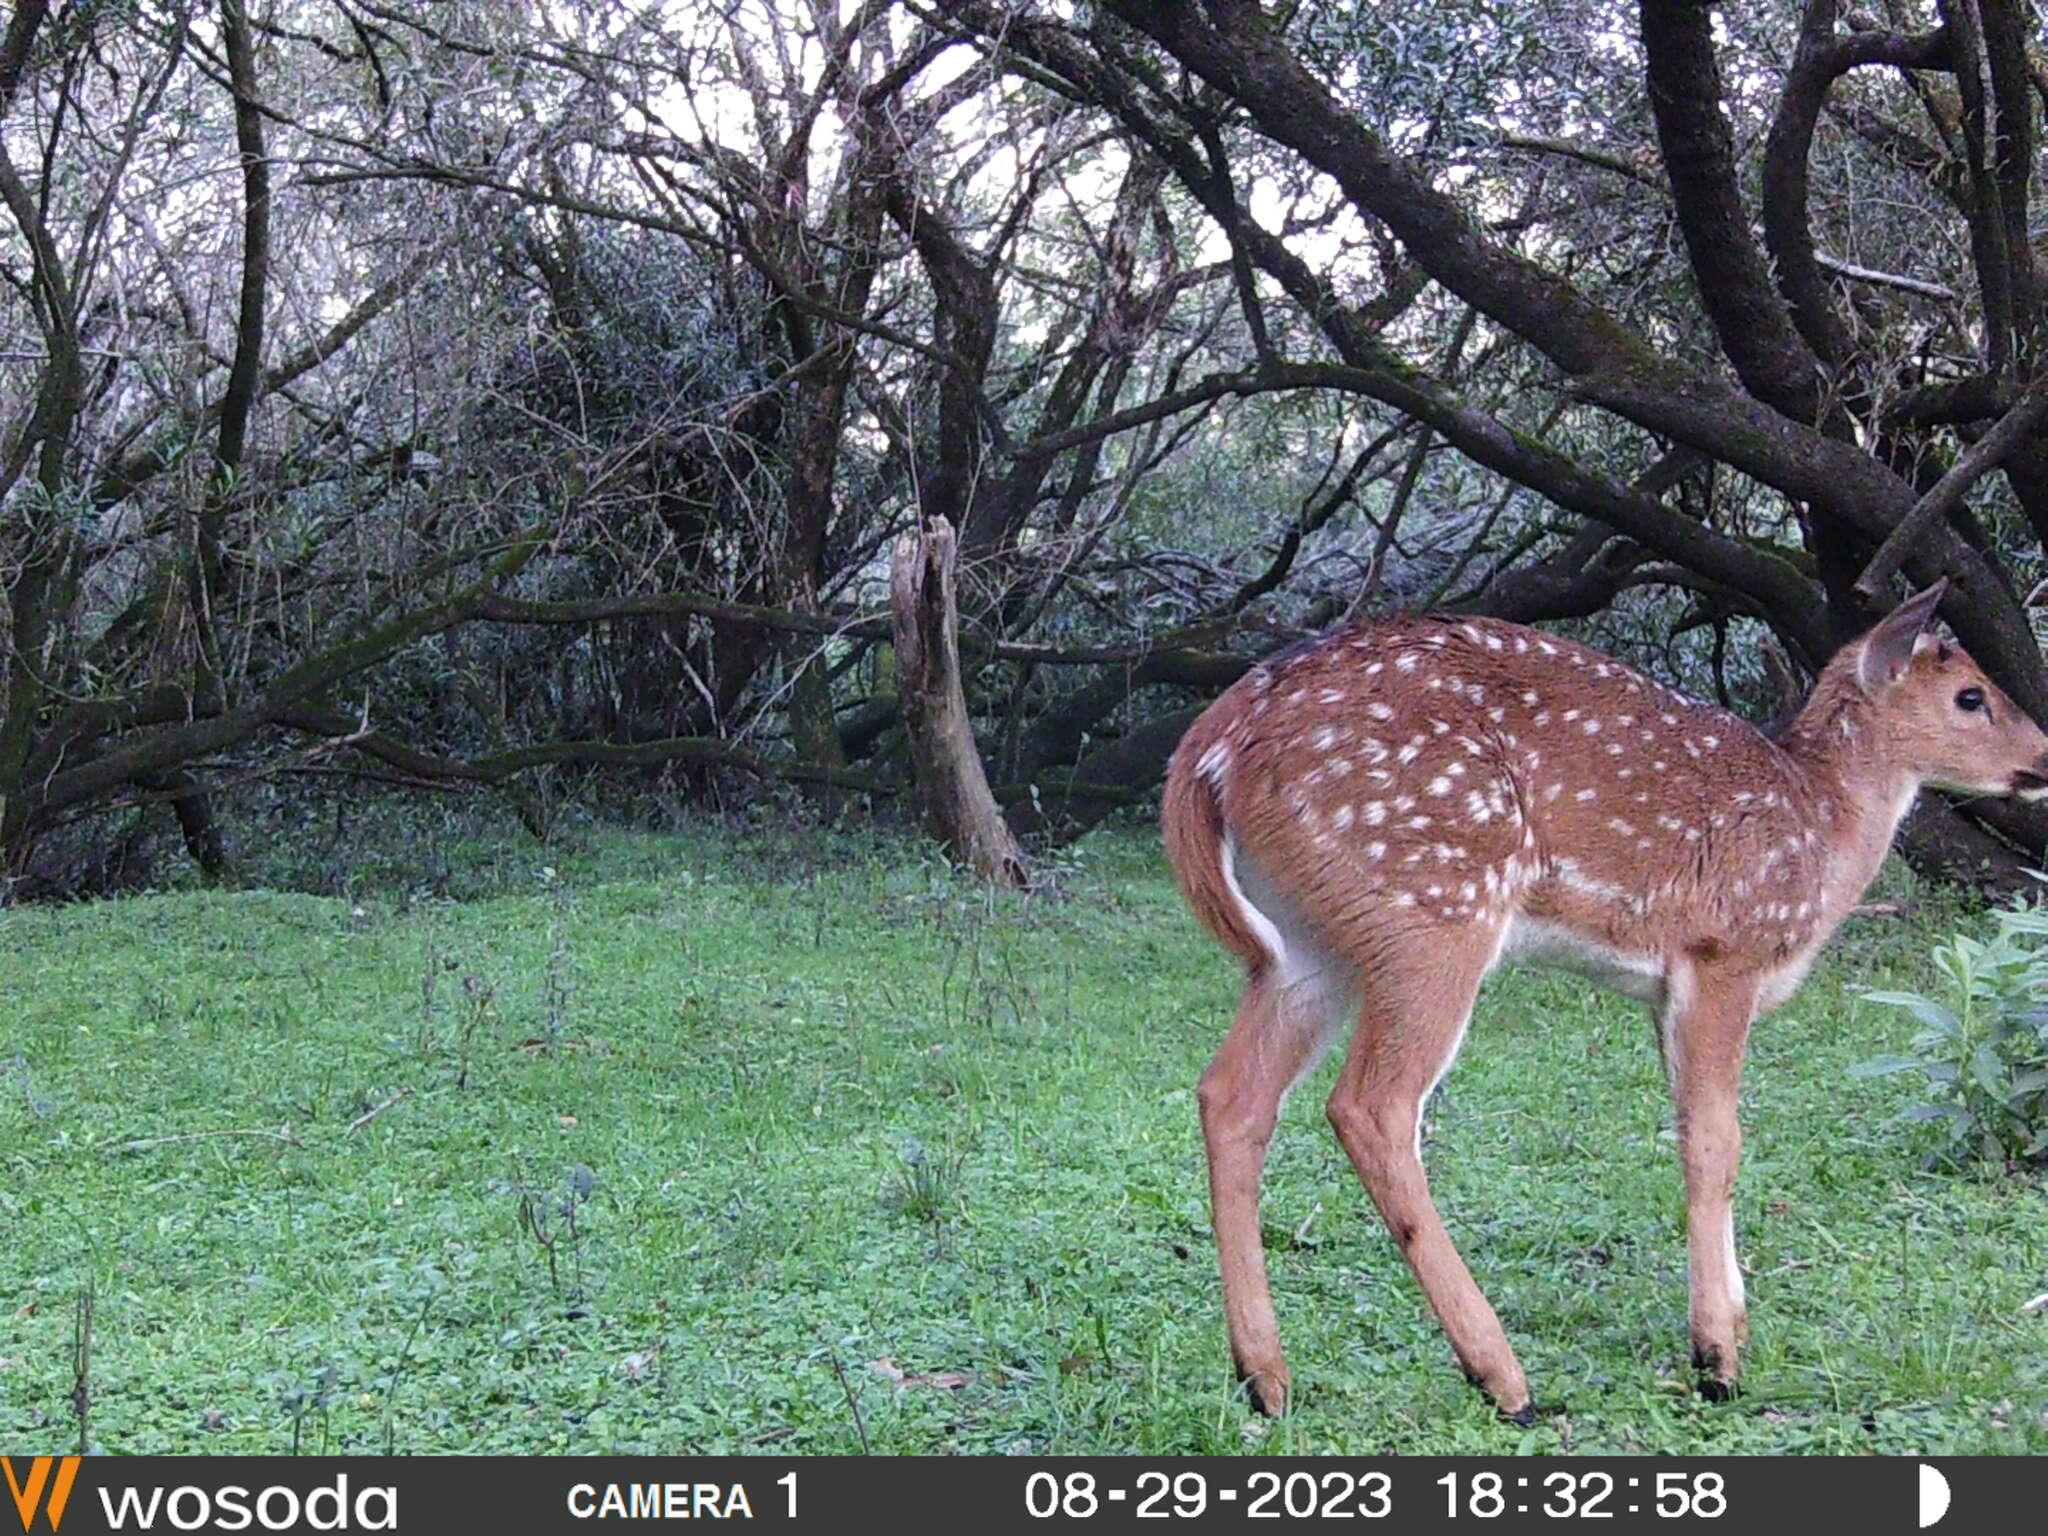Deer: (1163, 584, 2046, 1423)
